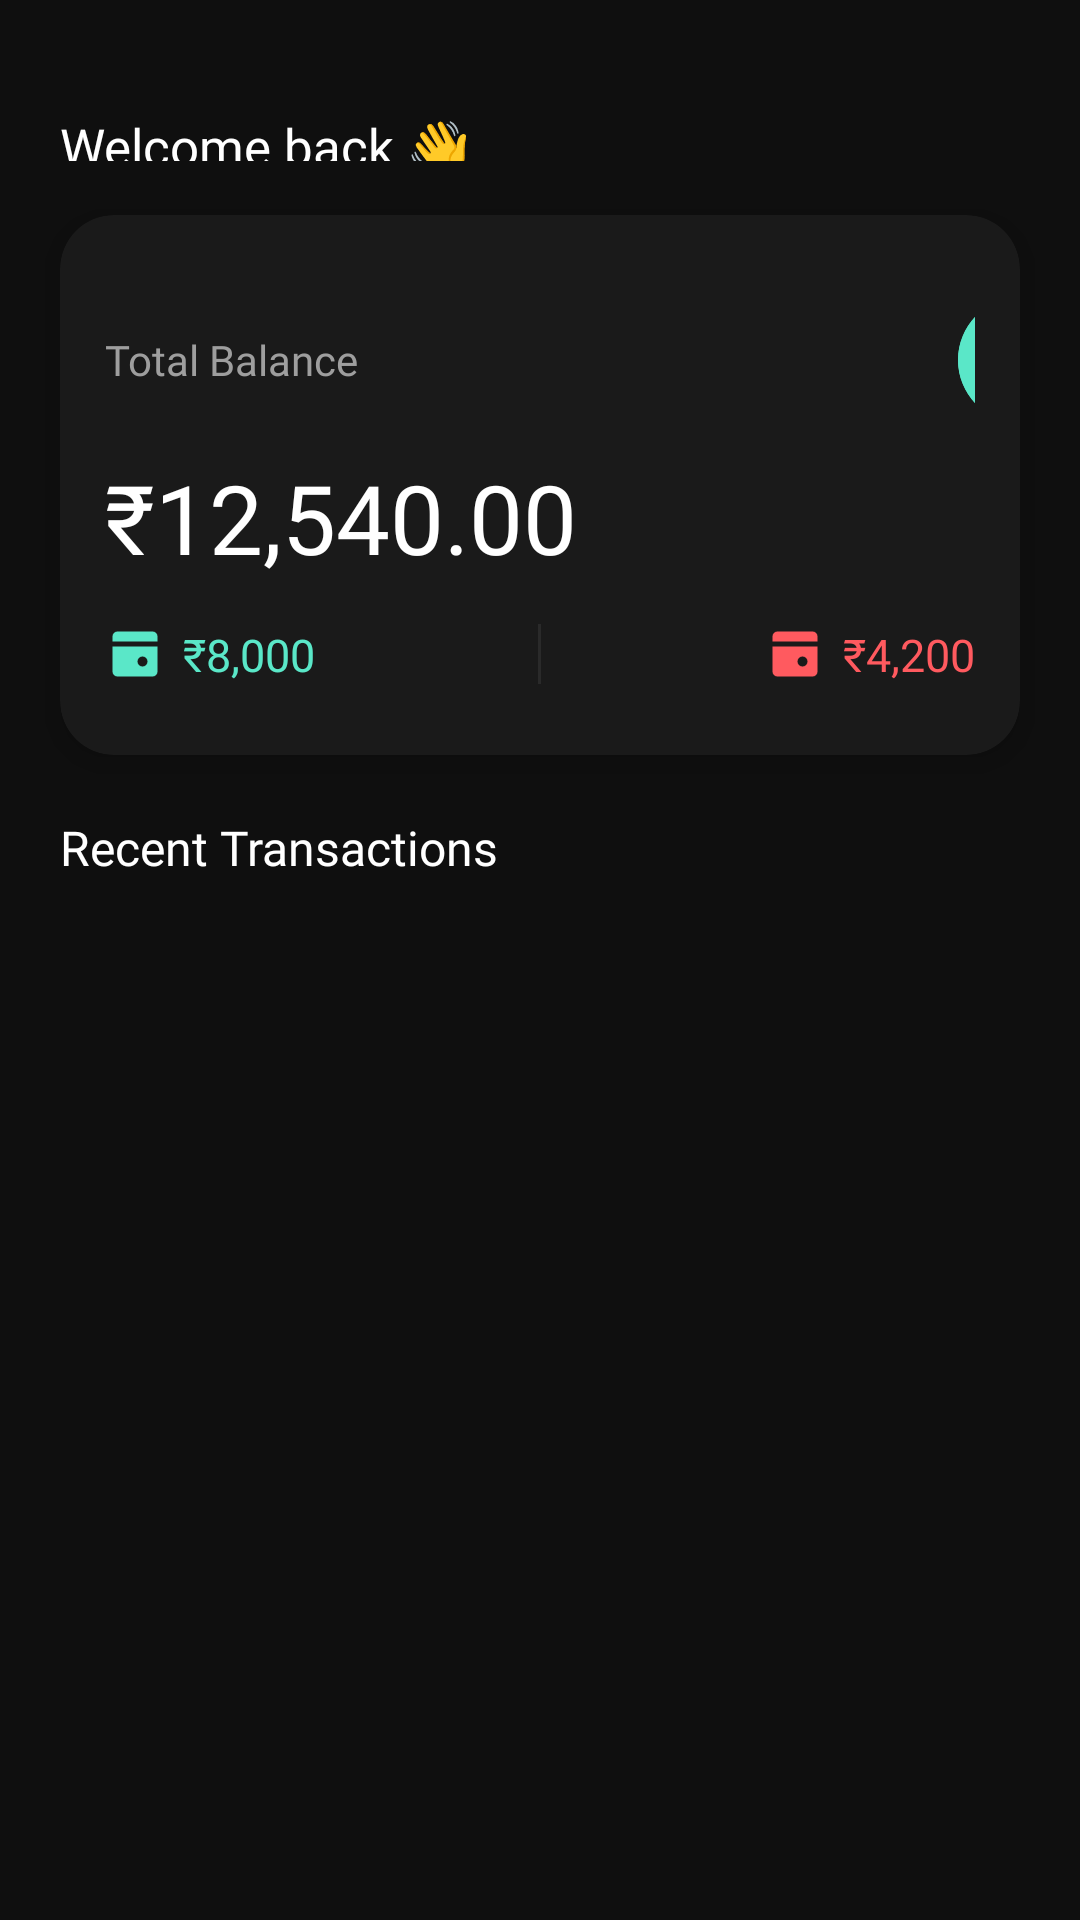

Named icons in this screenshot (1080w x 1920h) and their centers, (x=x, y=y):
wallet: (x=135, y=654), (x=795, y=654)
